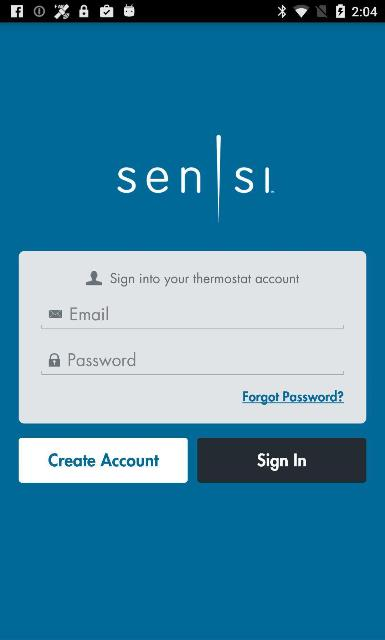Card: (18, 251, 366, 424)
EditText: (41, 306, 344, 330), (41, 352, 343, 374)
Icon: (86, 271, 102, 285), (48, 354, 60, 366), (48, 310, 62, 318)
Image: (117, 134, 275, 223)
Text: (110, 272, 300, 286), (242, 390, 344, 404), (49, 454, 159, 466), (68, 352, 135, 366), (258, 453, 306, 471), (70, 307, 108, 321)
TextButton: (18, 438, 188, 482), (198, 438, 366, 482)
UpperTaskBar: (0, 0, 384, 22)
